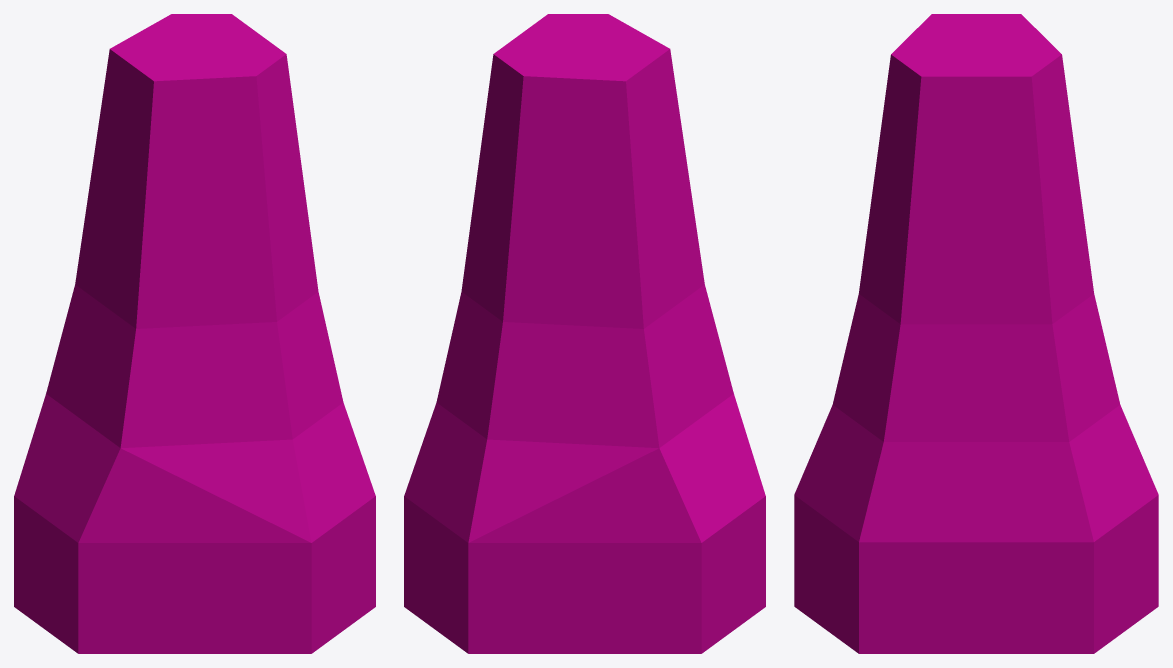
The model's file is lower_body_collision.dae.
3 renders of one model, left to right at view 1: azimuth 30°, elevation 25°; view 2: azimuth 150°, elevation 25°; view 3: azimuth 270°, elevation 25°, orthographic.
Parts seen in each view (by area): view 1: lower_body_collision; view 2: lower_body_collision; view 3: lower_body_collision.
Part boxes in pixels (bbox=[...]): lower_body_collision: bbox=[14, 14, 375, 653]; lower_body_collision: bbox=[404, 14, 765, 653]; lower_body_collision: bbox=[794, 14, 1158, 653].
Size of the model in its own units: 0.6003 by 0.6932 by 1.15.
